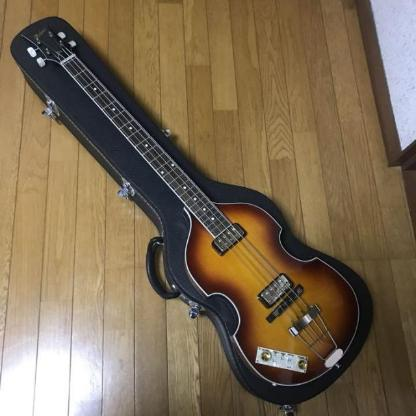bass: (17, 21, 361, 386)
